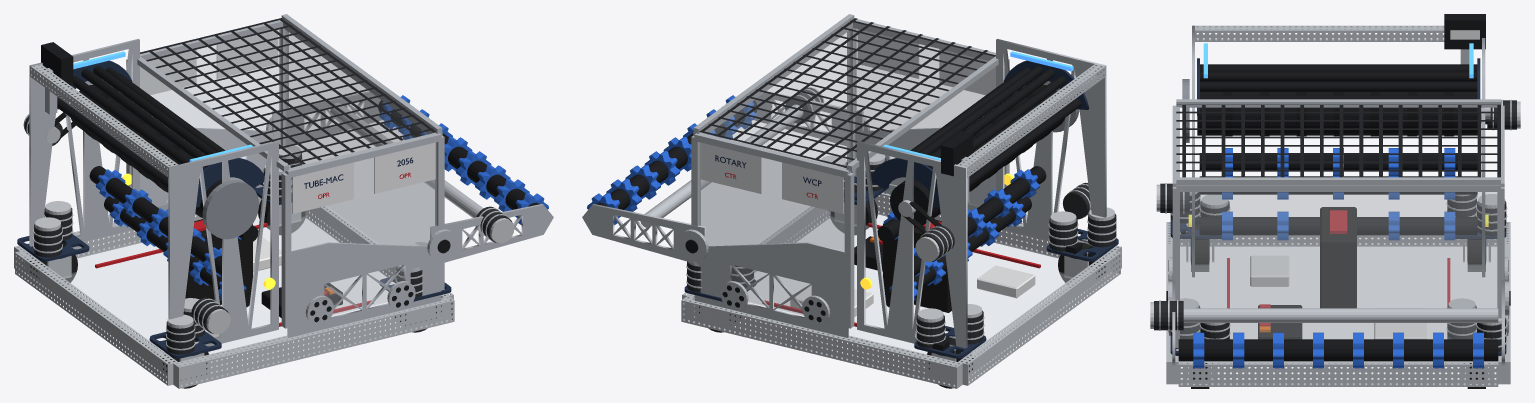
3 renders of one model, left to right at view 1: azimuth 30°, elevation 25°; view 2: azimuth 150°, elevation 25°; view 3: azimuth 270°, elevation 25°, orthographic. The views are drawn at different scales.
Parts seen in each view (by area): view 1: body.silver, body.polycarb, body.aluminum_tube, body.black, body.net_black, body.white, intake.silver, body.navy_anodized, body.kraken, body.kraken_cap, intake.compliant_blue, body.steel (+11 smaller); view 2: body.silver, body.polycarb, body.aluminum_tube, body.black, body.net_black, body.white, intake.silver, body.kraken, body.navy_anodized, body.kraken_cap, intake.compliant_blue, body.compliant_blue (+7 smaller); view 3: body.polycarb, body.black, body.aluminum_tube, body.silver, body.net_black, intake.black, intake.aluminum, body.kraken, body.battery, intake.compliant_blue, body.compliant_blue, body.kraken_cap (+10 smaller).
Boxes of the visible parts, <box> form: body.silver: <box>29,14,444,355</box>; body.polycarb: <box>22,29,441,385</box>; body.aluminum_tube: <box>14,64,454,388</box>; body.black: <box>41,42,413,356</box>; body.net_black: <box>140,18,436,164</box>; body.white: <box>140,30,435,337</box>; intake.silver: <box>266,91,553,266</box>; body.navy_anodized: <box>17,60,451,379</box>; body.kraken: <box>24,115,422,354</box>; body.kraken_cap: <box>23,114,427,350</box>; intake.compliant_blue: <box>379,95,548,225</box>; body.steel: <box>202,179,258,239</box>; body.silver: <box>691,14,1106,355</box>; body.polycarb: <box>688,28,1110,385</box>; body.aluminum_tube: <box>681,64,1121,388</box>; body.black: <box>722,66,1093,356</box>; body.net_black: <box>699,18,995,167</box>; body.white: <box>700,29,1035,298</box>; intake.silver: <box>582,92,869,266</box>; body.kraken: <box>687,158,1116,348</box>; body.navy_anodized: <box>684,60,1118,379</box>; body.kraken_cap: <box>686,153,1116,344</box>; intake.compliant_blue: <box>587,95,756,225</box>; body.compliant_blue: <box>883,169,1040,300</box>; body.polycarb: <box>1173,192,1503,383</box>; body.black: <box>1168,14,1508,339</box>; body.aluminum_tube: <box>1166,25,1510,386</box>; body.silver: <box>1169,25,1508,347</box>; body.net_black: <box>1176,104,1500,177</box>; intake.black: <box>1166,291,1510,361</box>; intake.aluminum: <box>1183,308,1498,322</box>; body.kraken: <box>1160,100,1516,351</box>; body.battery: <box>1320,207,1356,308</box>; intake.compliant_blue: <box>1193,332,1483,368</box>; body.compliant_blue: <box>1222,148,1455,240</box>; body.kraken_cap: <box>1156,99,1520,347</box>.
Size of the model in its own units: 0.9652 by 0.574 by 0.7645.
Materials: 21 (2 with a texture image).
